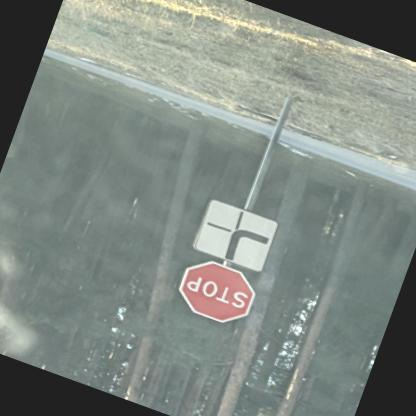stop: (173, 255, 262, 332)
